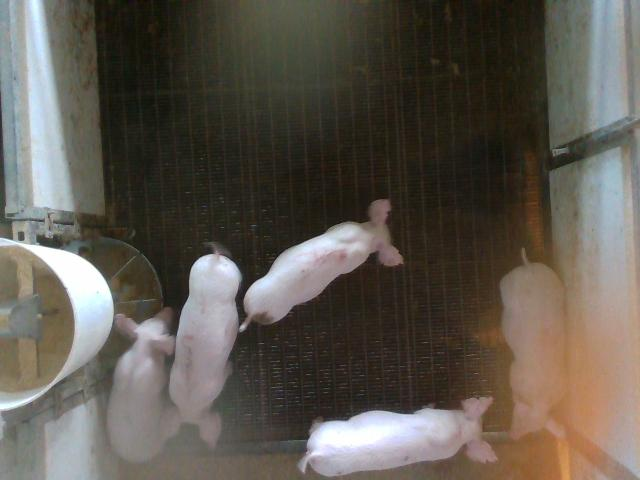pig-3: (162, 246, 241, 447)
pig-4: (500, 249, 565, 438)
pig-5: (239, 199, 402, 331)
